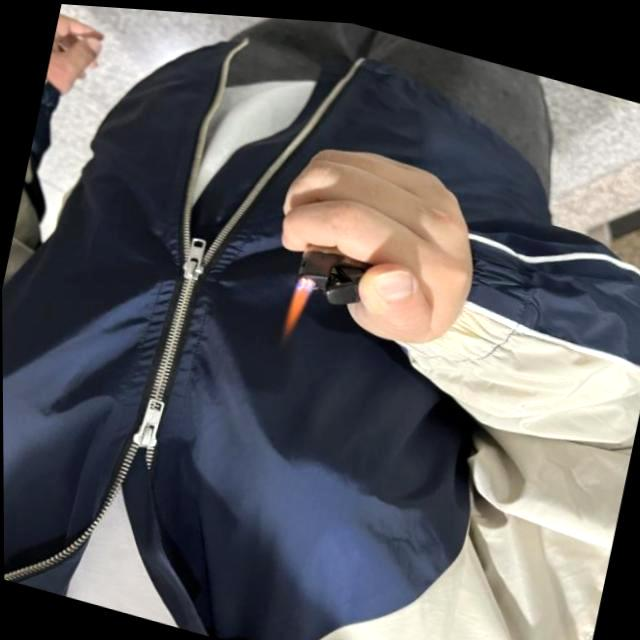fire: (278, 276, 316, 340)
